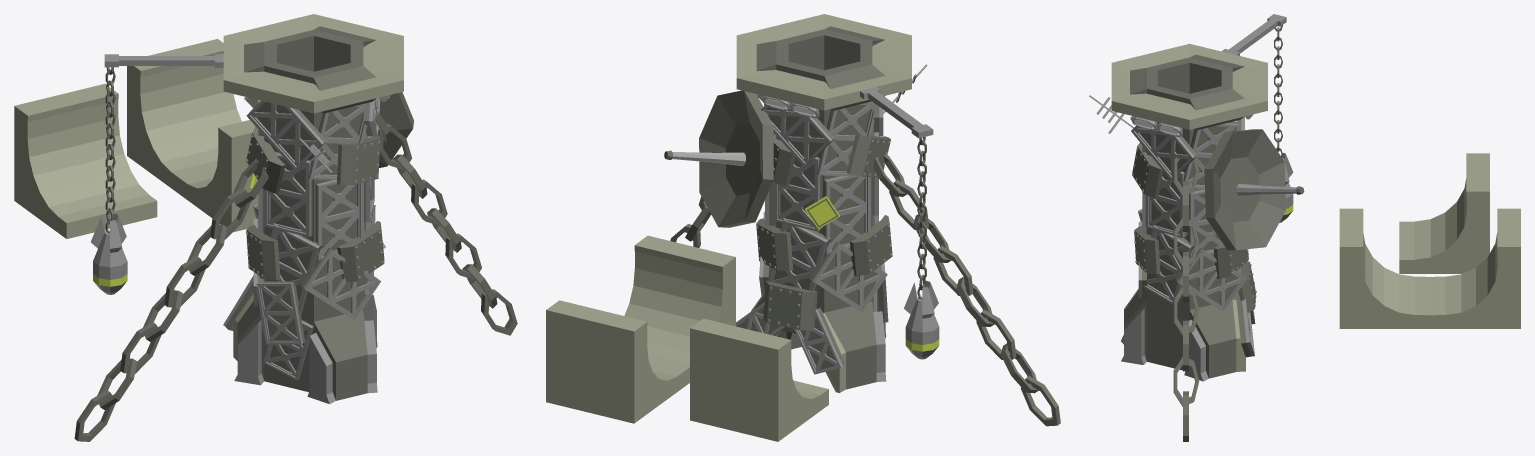
The model's file is postpunk assets.fbx.
3 views of the same model, side by side, from view 1: azimuth 30°, elevation 25°; view 2: azimuth 150°, elevation 25°; view 3: azimuth 270°, elevation 25° (orthographic). The views are drawn at different scales.
Visible parts, largest first — view 1: polySurface569, pCube53, pCube52; view 2: polySurface569, pCube53, pCube52; view 3: polySurface569, pCube53, pCube52.
Part boxes in pixels (<box>): polySurface569: <box>74,14,517,441</box>; pCube53: <box>127,39,258,232</box>; pCube52: <box>14,84,157,238</box>; polySurface569: <box>664,14,1060,426</box>; pCube53: <box>546,235,735,423</box>; pCube52: <box>690,318,828,441</box>; polySurface569: <box>1089,14,1304,441</box>; pCube53: <box>1339,208,1520,328</box>; pCube52: <box>1399,153,1489,273</box>.
Bounding box in the file's own units: 486 × 348 × 478.
